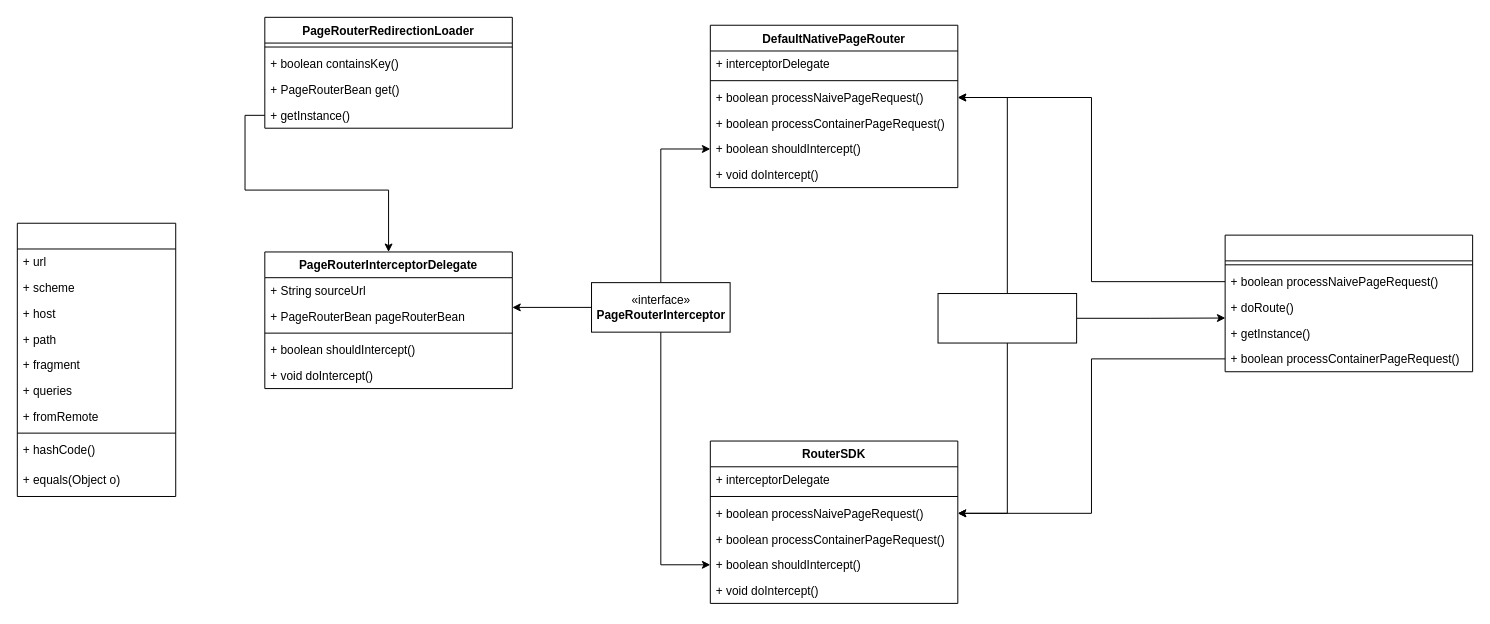
Some shapes in this 1490 by 624 pixel diagram are drawn without their labels. The shapes that lost their labels are listed below. From the top down, each one's box as (x1, y1, x2, y2) in pixels, then its label:
(937, 293, 1077, 343): «interface» PageRouterHandler
(1224, 234, 1473, 372): TgRouterSuperService
(16, 222, 176, 496): PageRouterBean
